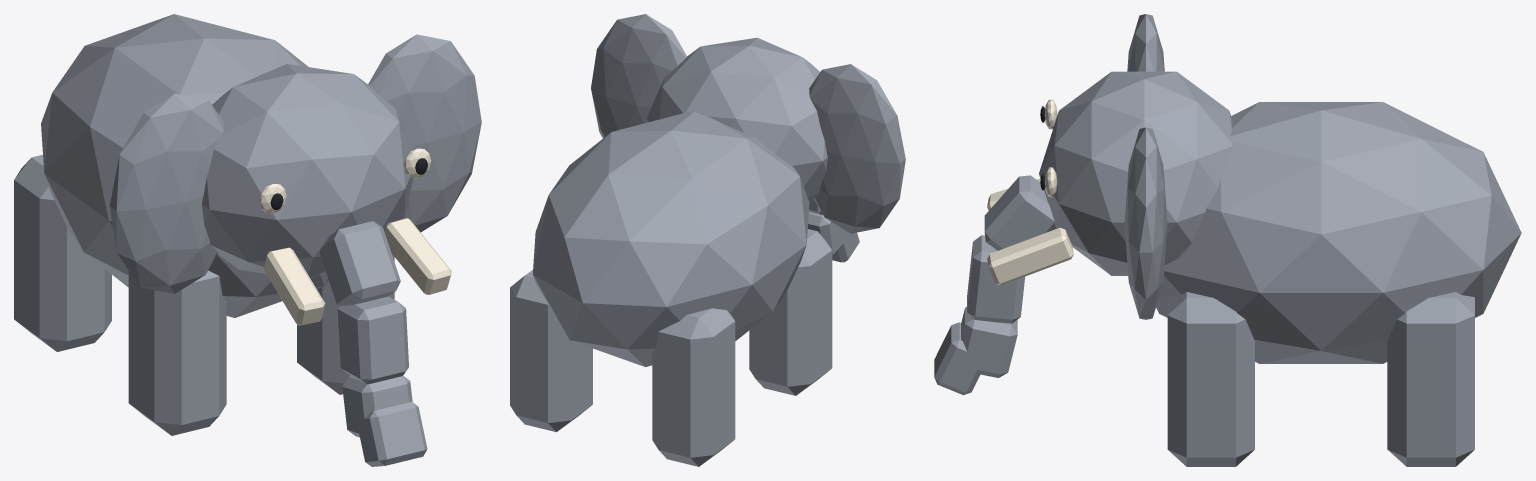
File: ZooElephant.fbx
3 renders of one model, left to right at view 1: azimuth 30°, elevation 25°; view 2: azimuth 150°, elevation 25°; view 3: azimuth 270°, elevation 25°, orthographic. The views are drawn at different scales.
Parts seen in each view (by area): view 1: Head.001, ElephantBody, Ear.002, Leg.004, Ear.003, Leg.005, Trunk.001, Trunk, Trunk.003, Leg.006, Tusk.001, Tusk (+3 smaller); view 2: ElephantBody, Head.001, Ear.002, Leg.005, Leg.007, Leg.004, Ear.003, Trunk.002, Trunk.003; view 3: ElephantBody, Head.001, Leg.006, Leg.007, Ear.003, Trunk, Trunk.001, Tusk.001, Trunk.002, Trunk.003, Ear.002.
Part boxes in pixels (x1,y1,x2,y2): Head.001: (202,63,413,278); ElephantBody: (41,14,328,317); Ear.002: (109,93,223,293); Leg.004: (128,270,226,435); Ear.003: (368,34,481,232); Leg.005: (14,154,111,351); Trunk.001: (337,296,408,384); Trunk: (319,221,400,305); Trunk.003: (359,401,427,466); Leg.006: (297,253,394,394); Tusk.001: (385,218,451,294); Tusk: (264,247,325,325); ElephantBody: (532,111,809,366); Head.001: (647,37,827,202); Ear.002: (809,64,905,233); Leg.005: (652,308,735,466); Leg.007: (510,270,592,432); Leg.004: (749,229,832,395); Ear.003: (591,14,686,138); Trunk.002: (807,212,849,254); Trunk.003: (832,230,859,262); ElephantBody: (1156,102,1521,363); Head.001: (1039,71,1232,275); Leg.006: (1167,292,1254,466); Leg.007: (1387,292,1474,466); Ear.003: (1124,127,1167,319); Trunk: (984,175,1056,250); Trunk.001: (967,235,1024,323); Tusk.001: (987,227,1073,285); Trunk.002: (961,307,1017,377); Trunk.003: (934,322,982,395); Ear.002: (1127,14,1164,71).
Bounding box in the file's own units: 217 × 206 × 315.
